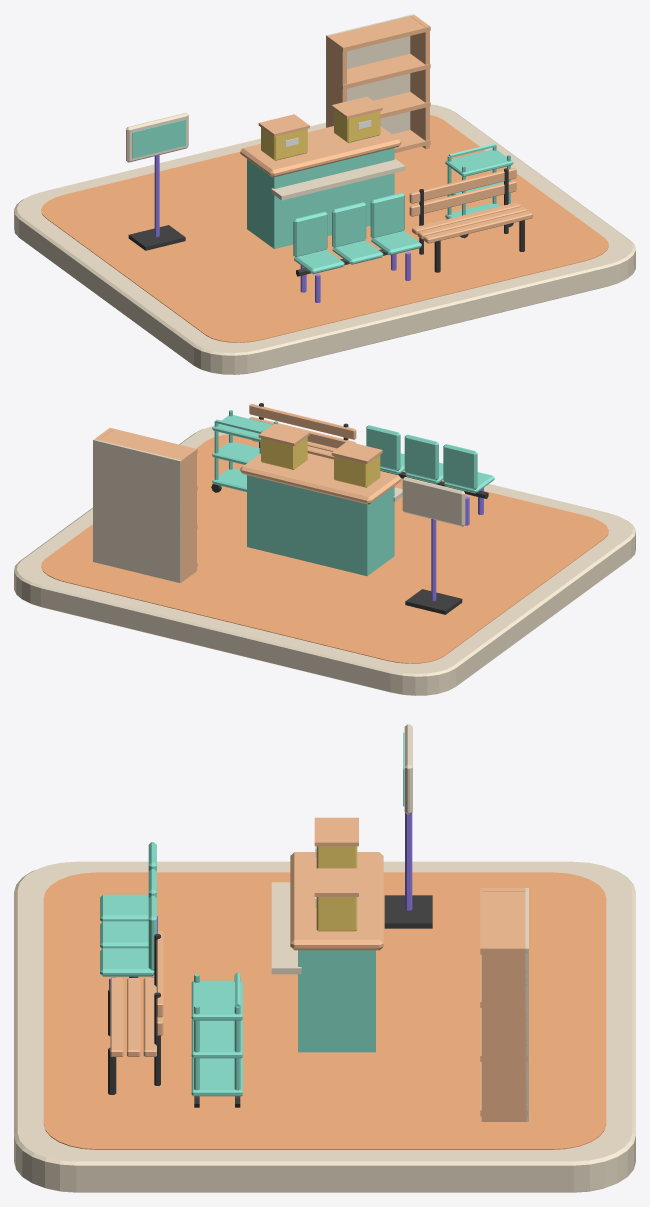
3 renders of one model, top to bottom at view 1: azimuth 30°, elevation 25°; view 2: azimuth 150°, elevation 25°; view 3: azimuth 270°, elevation 25°, orthographic. The views are drawn at different scales.
Parts seen in each view (by area): view 1: COM-02 Floor Surface, COM-01 Rounded Base Direct, Counter body, Countertop, Back.003, Side.001, Visitor shelf, Shelf.003, Shelf.002, Side, Inset, Back.001 (+18 smaller); view 2: COM-02 Floor Surface, COM-01 Rounded Base Direct, Back.003, Counter body, Countertop, Sign panel, Side, Back, Back.001, Shelf.003, Back slat.001, Box (+10 smaller); view 3: COM-02 Floor Surface, COM-01 Rounded Base Direct, Counter body, Side.001, Countertop, Shelf.003, Visitor shelf, Tray.002, Tray, Tray.001, Foot, Box.001 (+12 smaller).
Boxes of the visible parts, <box> form: COM-02 Floor Surface: <box>41,115,608,342</box>; COM-01 Rounded Base Direct: <box>14,104,635,374</box>; Counter body: <box>247,148,394,248</box>; Countertop: <box>240,126,401,177</box>; Back.003: <box>326,14,413,134</box>; Side.001: <box>410,15,429,148</box>; Visitor shelf: <box>271,158,405,200</box>; Shelf.003: <box>328,16,430,52</box>; Shelf.002: <box>327,53,430,89</box>; Side: <box>326,35,346,127</box>; Inset: <box>132,119,185,158</box>; Back.001: <box>332,202,366,247</box>; COM-02 Floor Surface: <box>41,434,608,663</box>; COM-01 Rounded Base Direct: <box>14,426,635,695</box>; Back.003: <box>93,439,181,583</box>; Counter body: <box>247,475,394,575</box>; Countertop: <box>240,453,401,504</box>; Sign panel: <box>402,477,465,526</box>; Side: <box>178,448,196,582</box>; Back: <box>443,444,477,489</box>; Back.001: <box>404,434,438,480</box>; Shelf.003: <box>99,428,197,459</box>; Back slat.001: <box>249,403,356,439</box>; Box: <box>334,455,380,487</box>; COM-02 Floor Surface: <box>43,872,606,1149</box>; COM-01 Rounded Base Direct: <box>14,861,635,1192</box>; Counter body: <box>298,950,375,1052</box>; Side.001: <box>481,945,526,1121</box>; Countertop: <box>290,852,383,950</box>; Shelf.003: <box>480,888,528,954</box>; Visitor shelf: <box>271,882,301,974</box>; Tray.002: <box>191,980,242,1020</box>; Tray: <box>191,1057,242,1096</box>; Tray.001: <box>191,1019,242,1058</box>; Foot: <box>384,895,432,928</box>; Box.001: <box>316,897,357,931</box>.
Bounding box in the file's own units: 6 × 1.9 × 5.2.
1 material, 1 textured.
